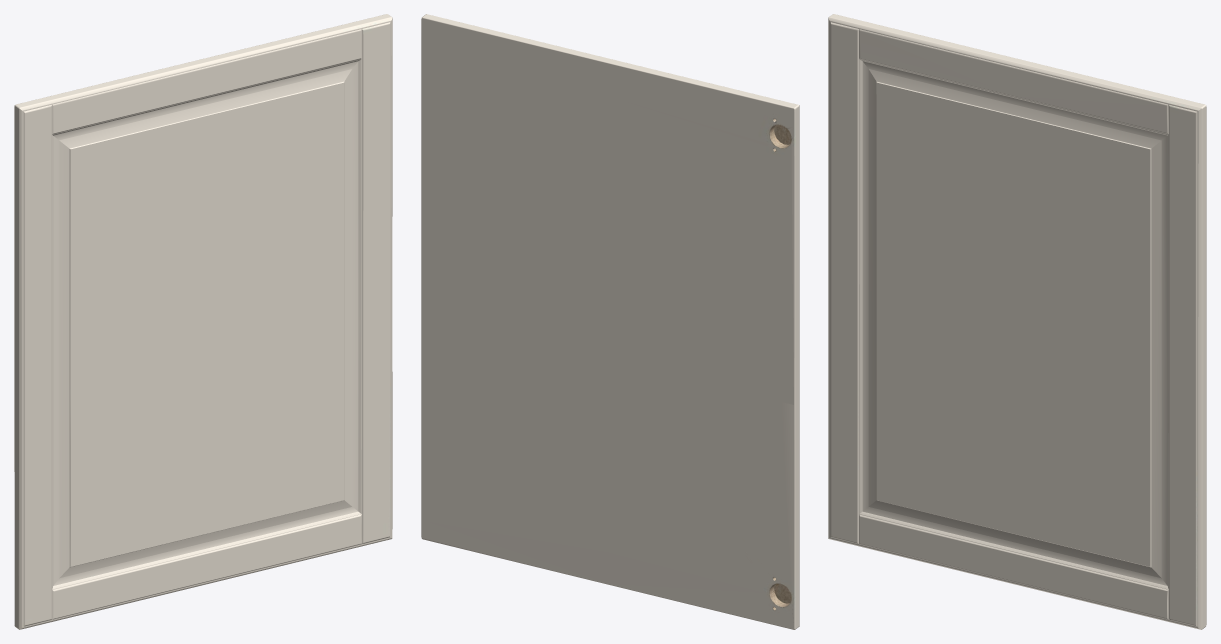
File: bodbyn_drzwi_50205481.glb
3 renders of one model, left to right at view 1: azimuth 30°, elevation 25°; view 2: azimuth 150°, elevation 25°; view 3: azimuth 330°, elevation 25°, orthographic.
Visible parts, largest first — view 1: bodbyn_drzwi_50205481; view 2: bodbyn_drzwi_50205481; view 3: bodbyn_drzwi_50205481.
Part boxes in pixels (box(x1,y1,x2,y2)): bodbyn_drzwi_50205481: box(14, 14, 392, 629); bodbyn_drzwi_50205481: box(421, 14, 799, 629); bodbyn_drzwi_50205481: box(828, 14, 1206, 629).
Bounding box in the file's own units: 0.597 × 0.797 × 0.018.
1 material, 1 textured.
